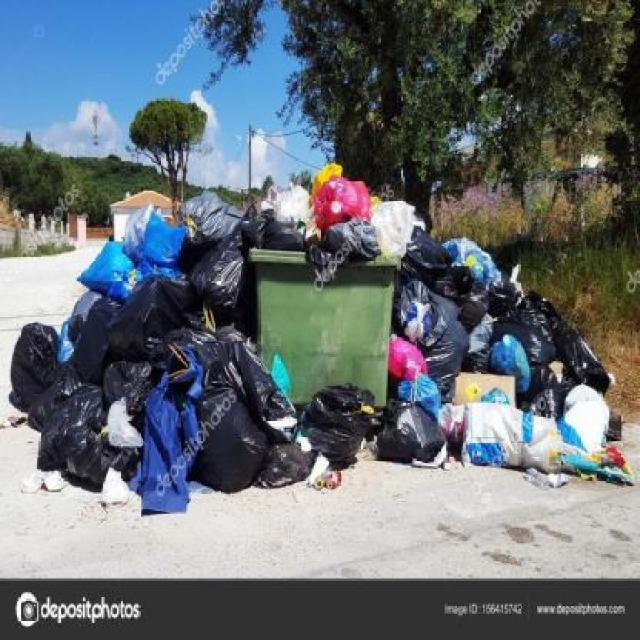garbage: (20, 202, 260, 488), (383, 239, 617, 475), (236, 173, 440, 273)
